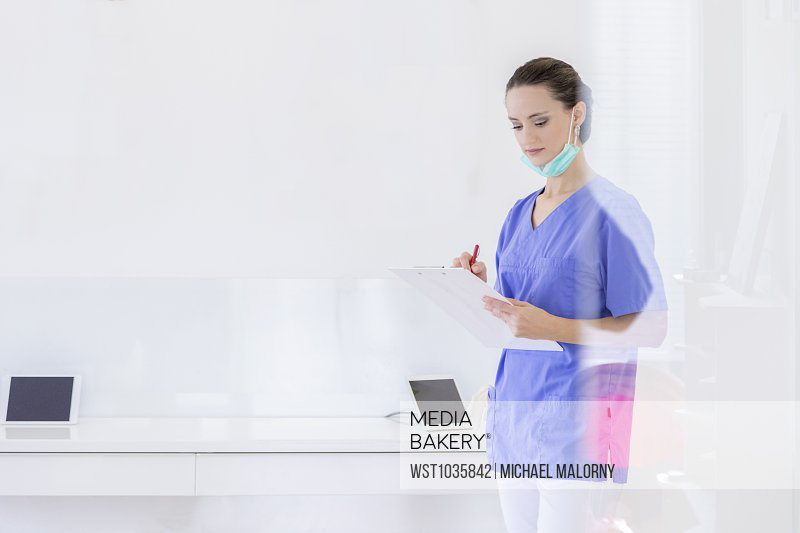mask_weared_incorrect: (501, 76, 592, 183)
